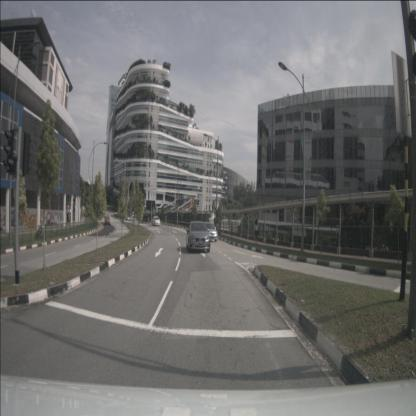human-pedestrian-adult: (254, 218, 260, 244)
vehicle-car: (186, 221, 210, 252), (202, 222, 218, 242), (152, 216, 161, 226), (105, 216, 110, 225)
